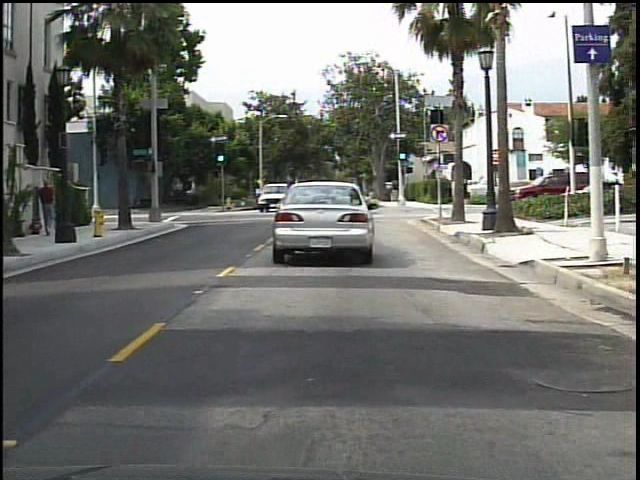person: (34, 176, 63, 242)
